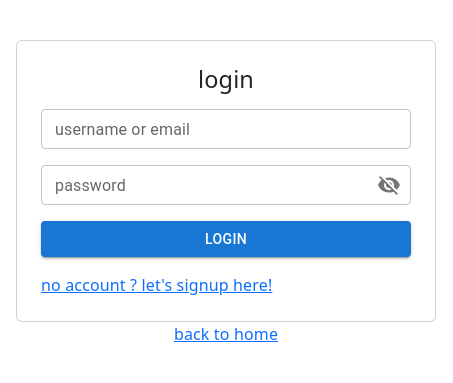
login page › shows validation errors on empty submit
Click the button "login".
click(226, 239)  # box [41,221,411,257]
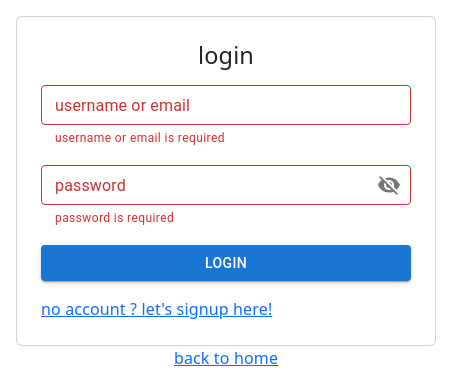
Check: the text "username or email is required" is shown, box [55,131,225,145]
Check: the text "password is required" is shown, box [55,211,174,225]
